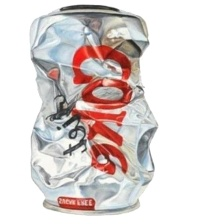can: (23, 3, 159, 218)
